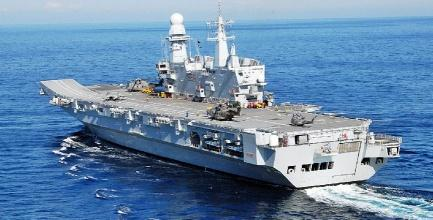warship: (26, 6, 388, 186)
